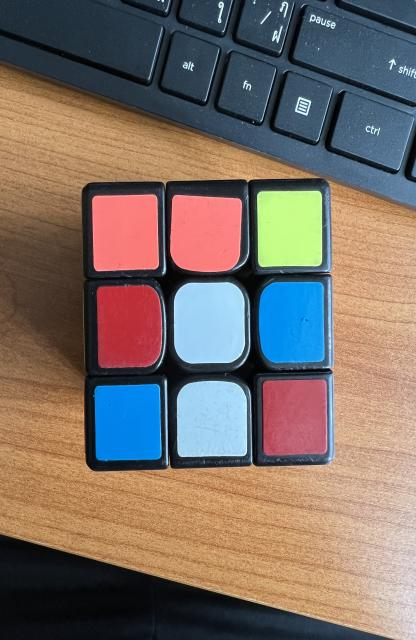Blue: (259, 282, 325, 362), (94, 384, 161, 461)
Orange: (170, 195, 242, 272), (92, 194, 159, 271)
Red: (96, 285, 162, 368), (262, 379, 327, 455)
White: (173, 282, 245, 364), (177, 381, 247, 458)
Yellow: (257, 190, 322, 268)
